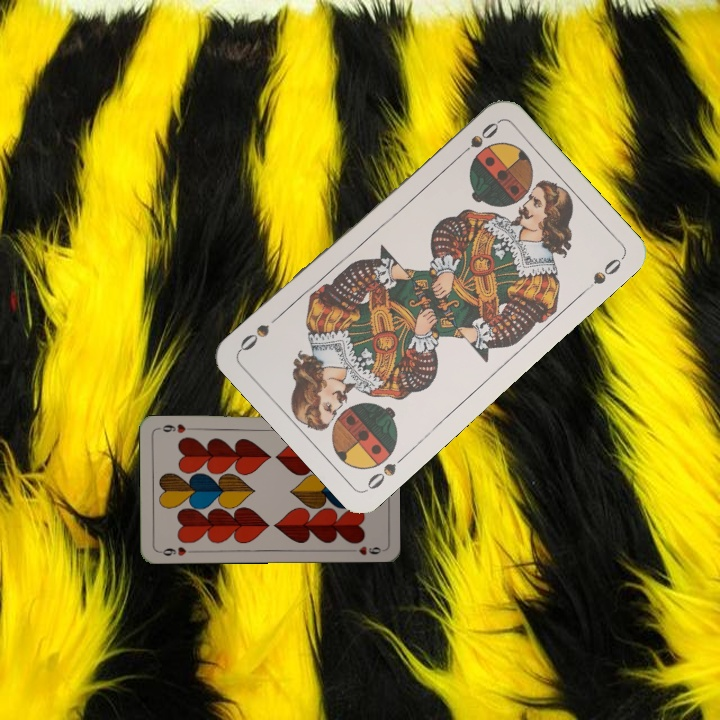H9: (155, 542, 195, 558)
SO: (452, 118, 502, 162), (362, 449, 410, 493)
